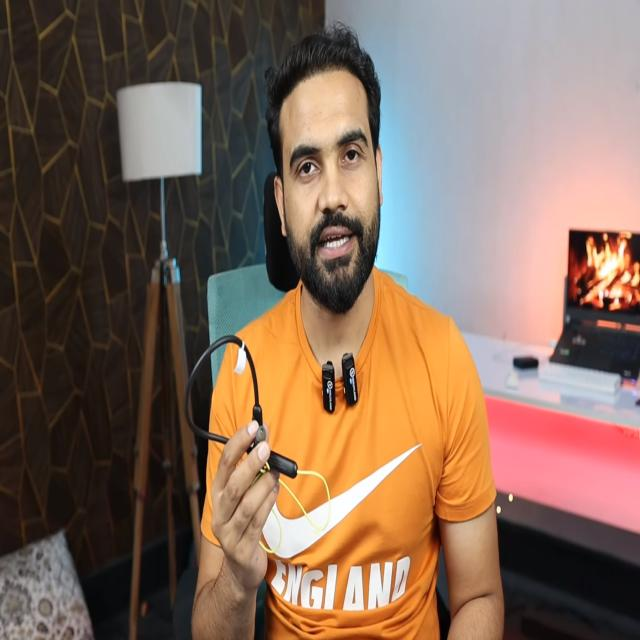Neckband: (184, 333, 330, 553)
